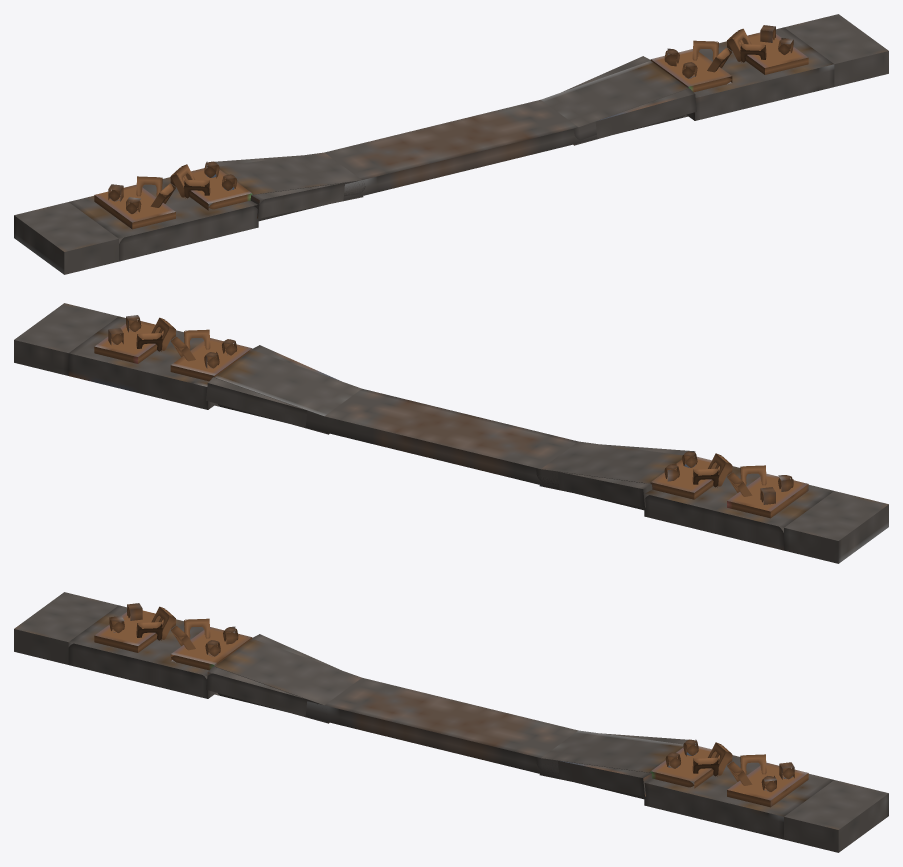
Rendered from worn_concrete_sleepers.obj.
The picture shows the model from 3 angles, top to bottom: view 1: azimuth 30°, elevation 25°; view 2: azimuth 150°, elevation 25°; view 3: azimuth 330°, elevation 25°; orthographic projection.
Visible parts, largest first — view 1: cube; view 2: cube; view 3: cube.
Boxes of the visible parts, left/top/right/bottom form: cube: left=14, top=14, right=888, bottom=274; cube: left=14, top=303, right=888, bottom=563; cube: left=14, top=592, right=888, bottom=852.
Size of the model in its own units: 2.36 by 0.1319 by 0.2576.
1 material, 1 textured.
